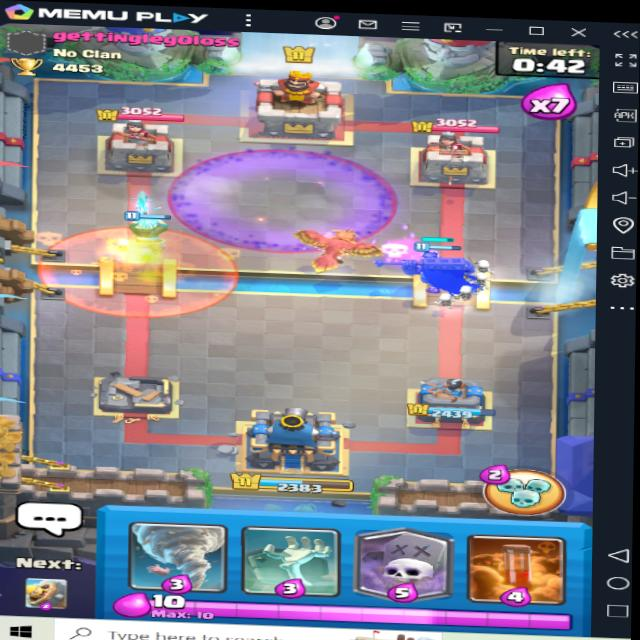Graveyard: (172, 134, 403, 261)
Poison: (43, 214, 236, 322)
